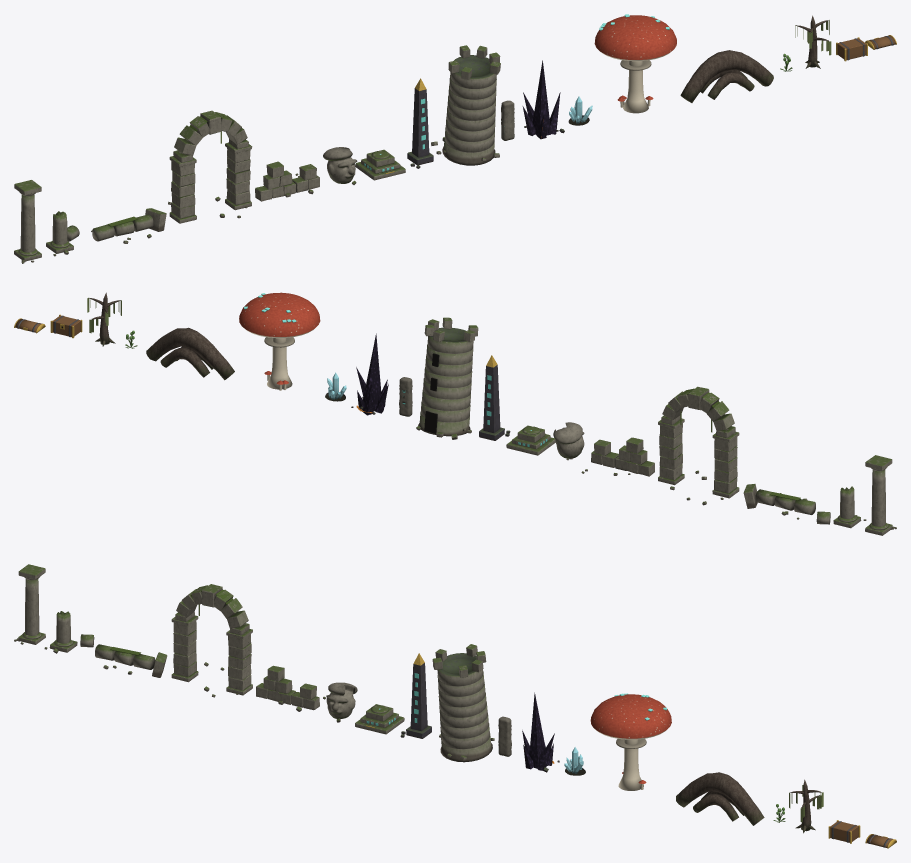
The model's file is RuinModels.fbx.
The picture shows the model from 3 angles, top to bottom: view 1: azimuth 30°, elevation 25°; view 2: azimuth 150°, elevation 25°; view 3: azimuth 330°, elevation 25°; orthographic projection.
Parts seen in each view (by area): view 1: RuinTower, RuinArch, GiantMushroom, GiantRoot, RuinWall, RuinPillar, ObsidianSpire, RuinObelisk, RuinPillarFallen, RuinAltar, RuinStatueHead, RuinPillarBroken (+3 smaller); view 2: RuinTower, RuinArch, GiantMushroom, GiantRoot, RuinWall, RuinPillar, RuinObelisk, ObsidianSpire, RuinPillarFallen, RuinAltar, RuinStatueHead, RuinPillarBroken (+3 smaller); view 3: RuinTower, RuinArch, GiantMushroom, GiantRoot, RuinWall, RuinPillar, RuinObelisk, ObsidianSpire, RuinPillarFallen, RuinAltar, RuinStatueHead, RuinPillarBroken (+1 smaller).
Part boxes in pixels (left/top/right/bottom): RuinTower: left=431, top=45, right=500, bottom=165; RuinArch: left=168, top=110, right=252, bottom=223; GiantMushroom: left=594, top=14, right=676, bottom=113; GiantRoot: left=680, top=50, right=773, bottom=102; RuinWall: left=255, top=161, right=319, bottom=201; RuinPillar: left=14, top=180, right=41, bottom=263; ObsidianSpire: left=522, top=60, right=564, bottom=139; RuinObelisk: left=407, top=78, right=433, bottom=168; RuinPillarFallen: left=91, top=208, right=166, bottom=243; RuinAltar: left=355, top=149, right=405, bottom=180; RuinStatueHead: left=323, top=147, right=357, bottom=184; RuinPillarBroken: left=46, top=211, right=79, bottom=256; RuinTower: left=416, top=317, right=478, bottom=439; RuinArch: left=658, top=386, right=739, bottom=505; GiantMushroom: left=239, top=292, right=320, bottom=390; GiantRoot: left=146, top=327, right=234, bottom=380; RuinWall: left=581, top=437, right=654, bottom=476; RuinPillar: left=865, top=455, right=896, bottom=535; RuinObelisk: left=479, top=355, right=510, bottom=440; ObsidianSpire: left=351, top=333, right=388, bottom=415; RuinPillarFallen: left=743, top=484, right=815, bottom=519; RuinAltar: left=506, top=425, right=555, bottom=455; RuinStatueHead: left=553, top=422, right=584, bottom=460; RuinPillarBroken: left=816, top=486, right=866, bottom=528; RuinTower: left=432, top=644, right=494, bottom=762; RuinArch: left=171, top=584, right=252, bottom=697; GiantMushroom: left=590, top=693, right=671, bottom=790; GiantRoot: left=676, top=772, right=764, bottom=825; RuinWall: left=256, top=665, right=327, bottom=711; RuinPillar: left=14, top=564, right=45, bottom=644; RuinObelisk: left=400, top=653, right=431, bottom=738; ObsidianSpire: left=522, top=692, right=559, bottom=772; RuinPillarFallen: left=95, top=644, right=167, bottom=677; RuinAltar: left=355, top=704, right=404, bottom=734; RuinStatueHead: left=326, top=682, right=357, bottom=722; RuinPillarBroken: left=44, top=611, right=94, bottom=653.
Bounding box in the file's own units: 175 × 20.12 × 14.2.
18 materials, 18 textured.
